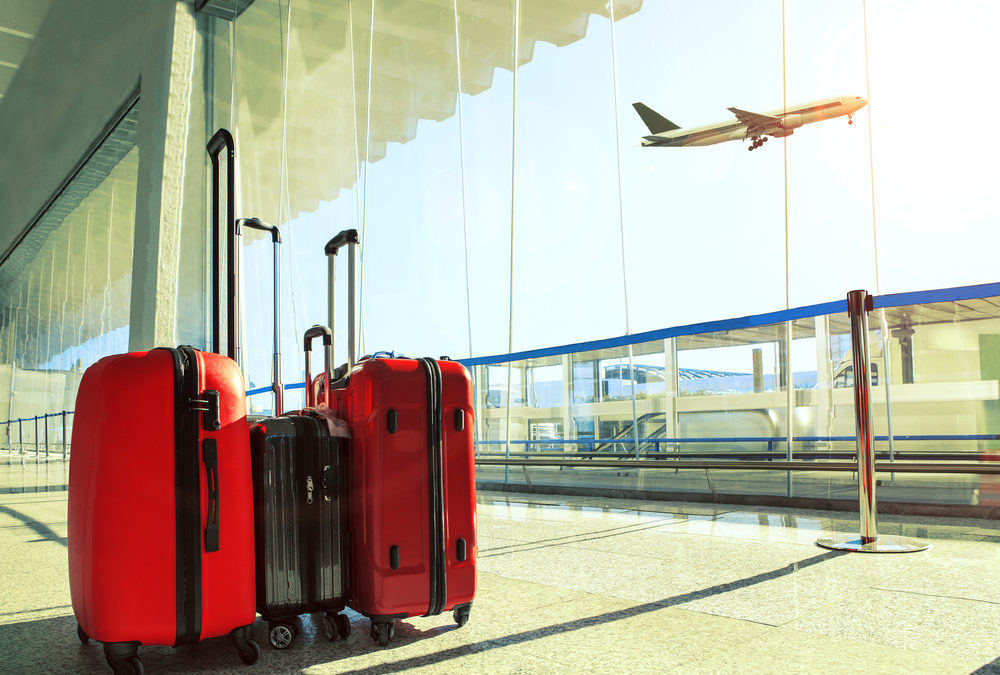luggage: (62, 123, 267, 669), (306, 226, 477, 642), (242, 324, 354, 647)
